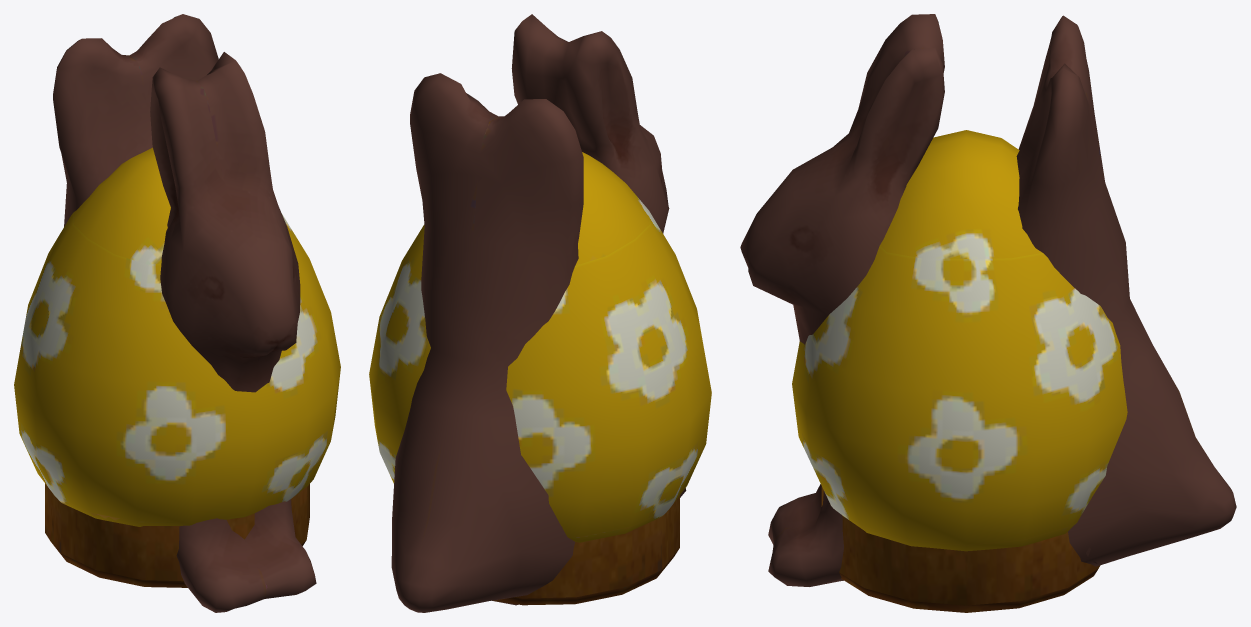
Rendered from Easter_Props.glb.
3 renders of one model, left to right at view 1: azimuth 30°, elevation 25°; view 2: azimuth 150°, elevation 25°; view 3: azimuth 270°, elevation 25°, orthographic. The views are drawn at different scales.
Visible parts, largest first — view 1: easter_egg_1, easter_bun1, easter_bun2, easter_pasochka; view 2: easter_bun2, easter_egg_1, easter_bun1, easter_pasochka; view 3: easter_egg_1, easter_bun2, easter_bun1, easter_pasochka.
Boxes of the visible parts, box(x1,y1,x2,y2) form: easter_egg_1: box(14, 147, 340, 526); easter_bun1: box(150, 52, 316, 612); easter_bun2: box(53, 14, 218, 226); easter_pasochka: box(45, 483, 309, 587); easter_bun2: box(391, 73, 583, 612); easter_egg_1: box(369, 152, 711, 542); easter_bun1: box(492, 14, 686, 605); easter_pasochka: box(493, 495, 679, 605); easter_egg_1: box(792, 130, 1127, 551); easter_bun2: box(1016, 15, 1236, 566); easter_bun1: box(740, 14, 1097, 586); easter_pasochka: box(821, 486, 1100, 612).
Size of the model in its own units: 0.4471 by 0.7438 by 0.622.
Materials: 2 (2 with a texture image).
